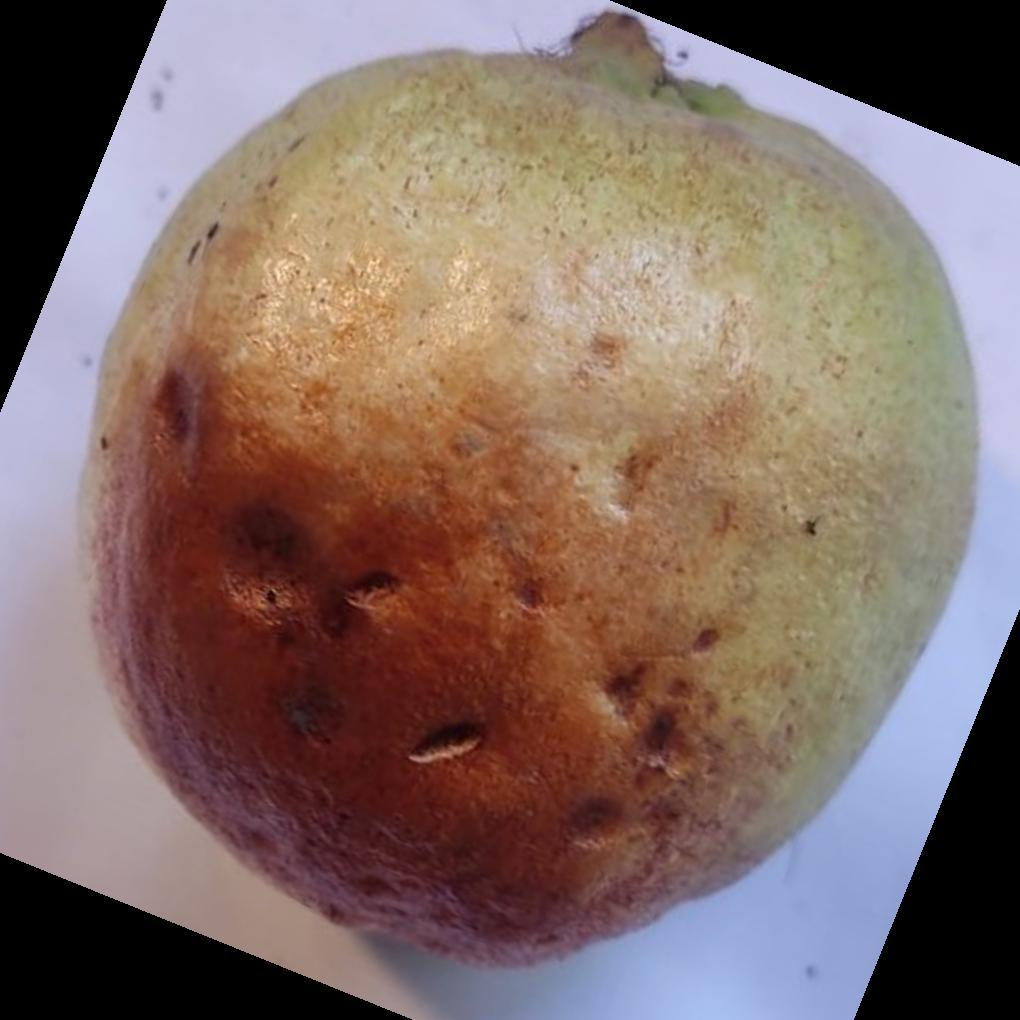FreshOrange: (74, 13, 981, 974)
